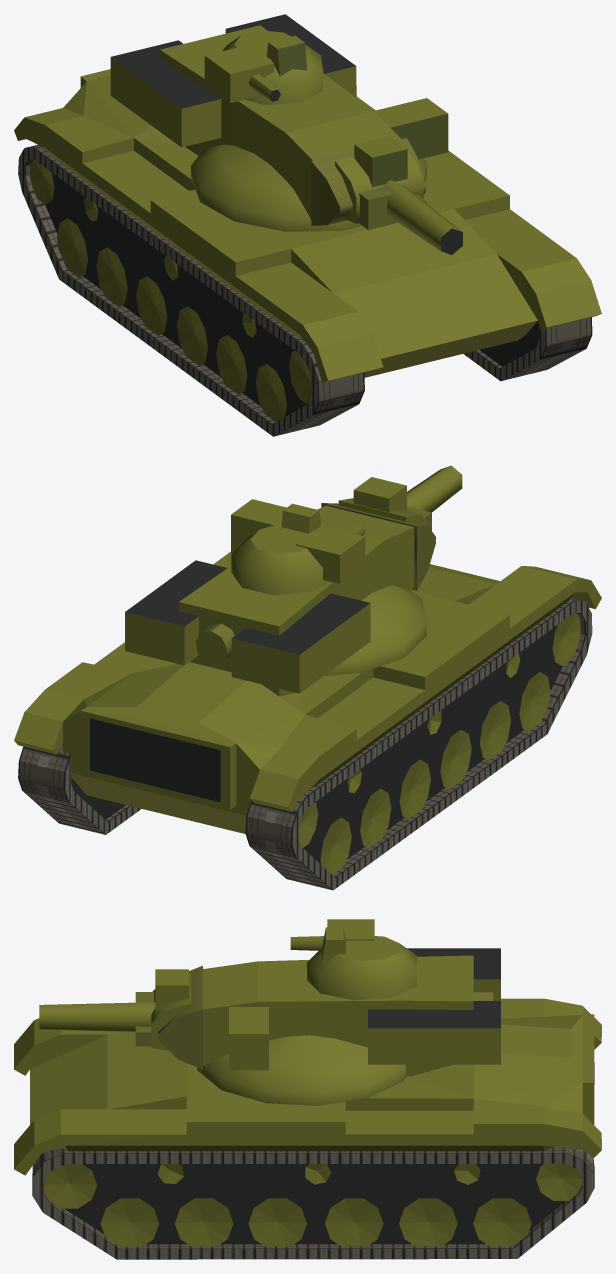
The model's file is heavy.glb.
The picture shows the model from 3 angles, top to bottom: view 1: azimuth 30°, elevation 25°; view 2: azimuth 150°, elevation 25°; view 3: azimuth 270°, elevation 25°; orthographic projection. The views are drawn at different scales.
Visible parts, largest first — view 1: Hull, Turret, Track_R, Barrel, Track_L; view 2: Hull, Turret, Track_R, Track_L, Barrel; view 3: Hull, Turret, Track_L, Barrel.
Boxes of the visible parts, x1=… form: Hull: x1=14, y1=69, x2=601, y2=421; Turret: x1=110, y1=14, x2=448, y2=231; Track_R: x1=18, y1=144, x2=364, y2=436; Barrel: x1=335, y1=136, x2=462, y2=254; Track_L: x1=463, y1=317, x2=592, y2=381; Hull: x1=14, y1=551, x2=601, y2=874; Turret: x1=125, y1=499, x2=435, y2=696; Track_R: x1=245, y1=598, x2=592, y2=890; Track_L: x1=18, y1=743, x2=141, y2=834; Barrel: x1=338, y1=465, x2=462, y2=530; Hull: x1=14, y1=998, x2=601, y2=1246; Turret: x1=158, y1=919, x2=500, y2=1105; Track_L: x1=32, y1=1147, x2=594, y2=1259; Barrel: x1=39, y1=969, x2=191, y2=1050.
Size of the model in its own units: 3.48 by 3.37 by 6.9.
Materials: 5 (1 with a texture image).
